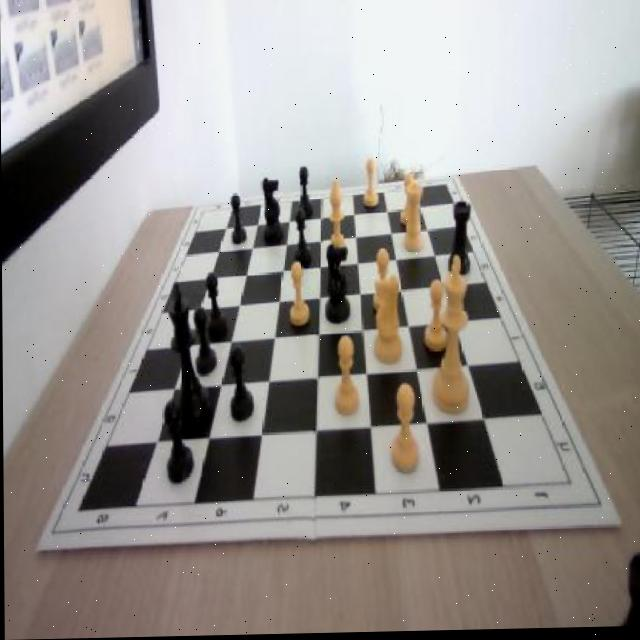black-bishop: (165, 289, 210, 434)
black-king: (322, 243, 351, 324), (261, 175, 283, 247)
black-knight: (164, 400, 193, 484), (227, 345, 253, 422), (193, 307, 218, 377), (205, 271, 227, 339), (291, 212, 313, 270), (230, 194, 246, 247), (296, 166, 312, 216)
black-queen: (448, 201, 473, 278)
black-rook: (326, 181, 348, 263)
white-bishop: (430, 256, 473, 416)
white-king: (369, 267, 408, 369)
white-knight: (389, 385, 422, 476), (329, 334, 361, 419), (422, 280, 450, 357), (371, 250, 396, 318), (287, 261, 308, 327), (361, 161, 380, 210), (399, 176, 417, 226)
white-queen: (401, 184, 425, 254)
